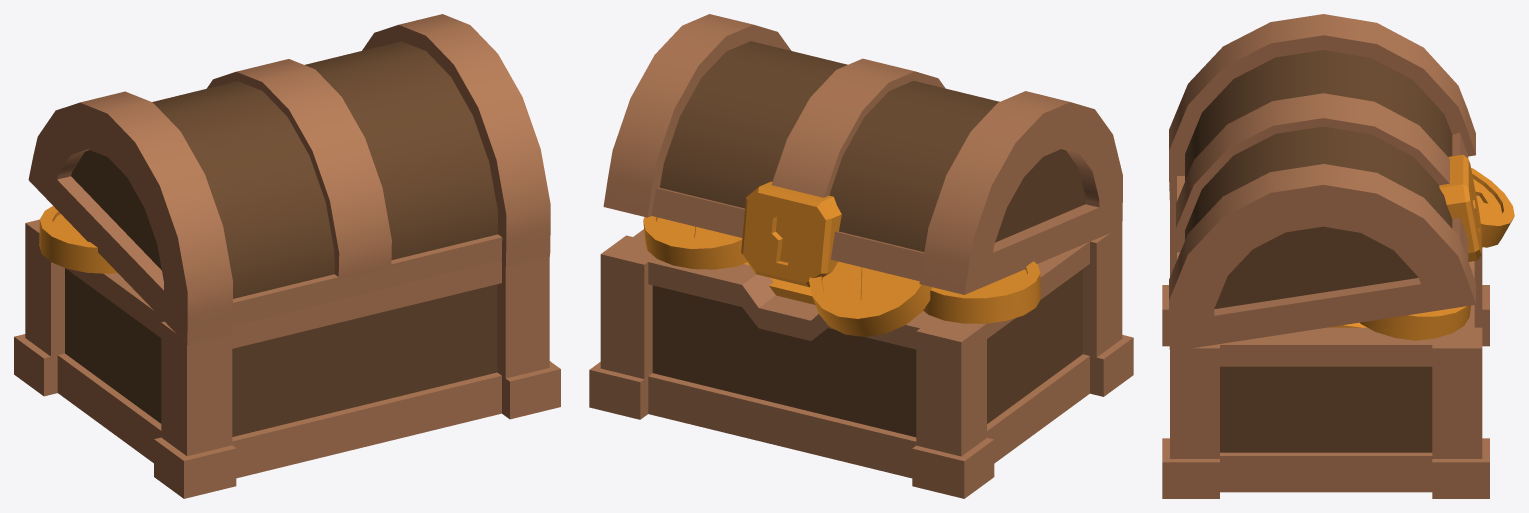
The model's file is SM_Item_04.fbx.
3 views of the same model, side by side, from view 1: azimuth 30°, elevation 25°; view 2: azimuth 150°, elevation 25°; view 3: azimuth 270°, elevation 25° (orthographic). The views are drawn at different scales.
Visible parts, largest first — view 1: Gold.004; view 2: Gold.004; view 3: Gold.004.
Boxes of the visible parts, x1,y1,x2,y2 form: Gold.004: (14, 14, 560, 498); Gold.004: (589, 14, 1133, 498); Gold.004: (1162, 14, 1514, 498).
Bounding box in the file's own units: 2.43 × 1.9 × 1.95.
